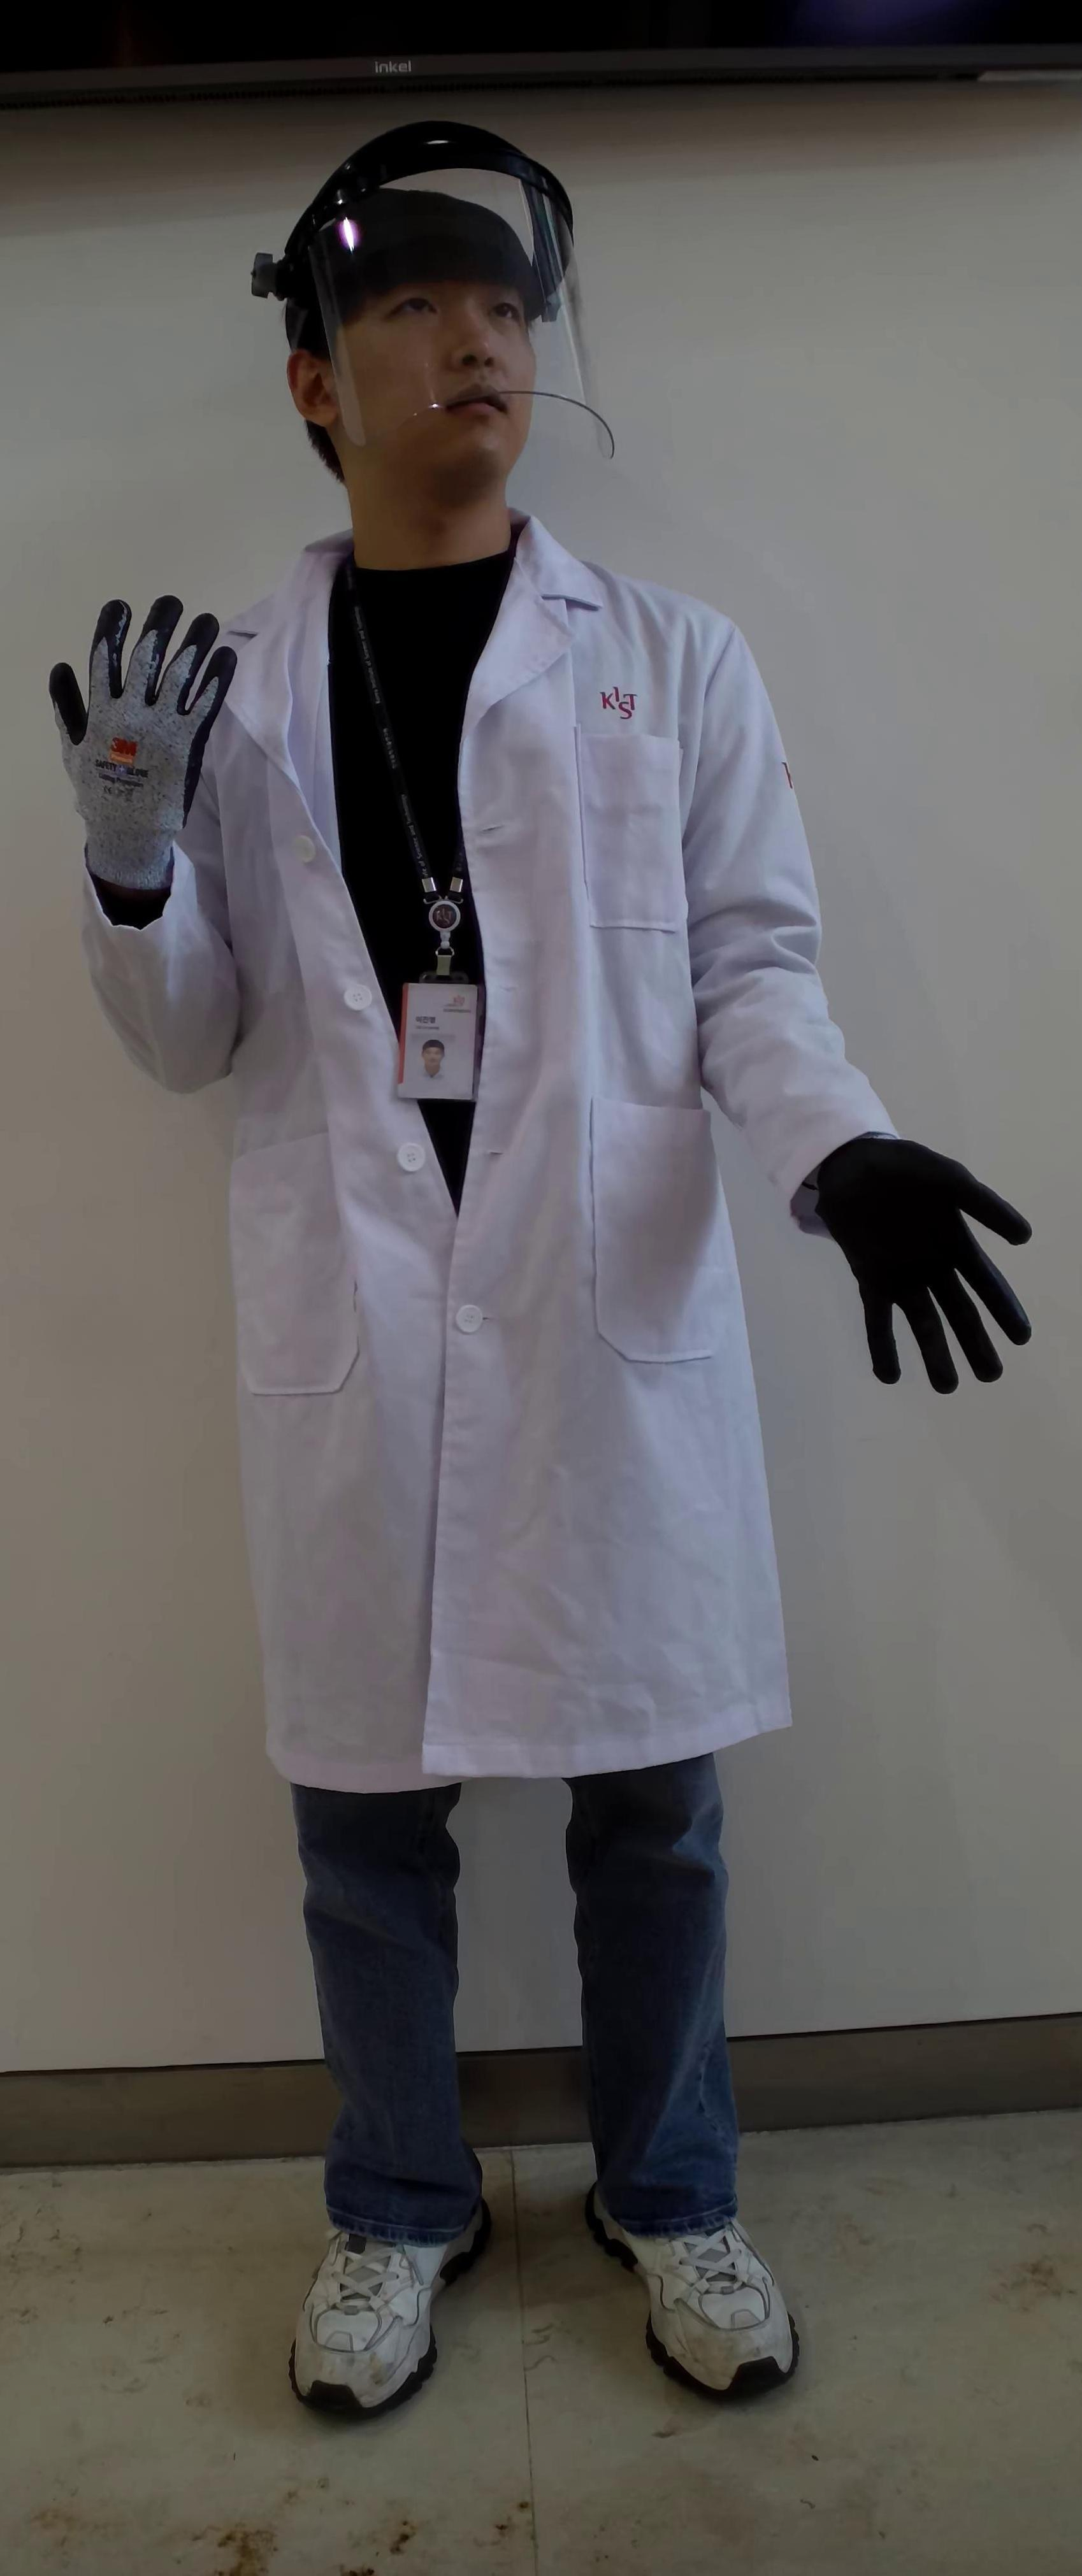lab_coat: (238, 626, 753, 1773)
